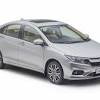Honda: (1, 17, 100, 84)
